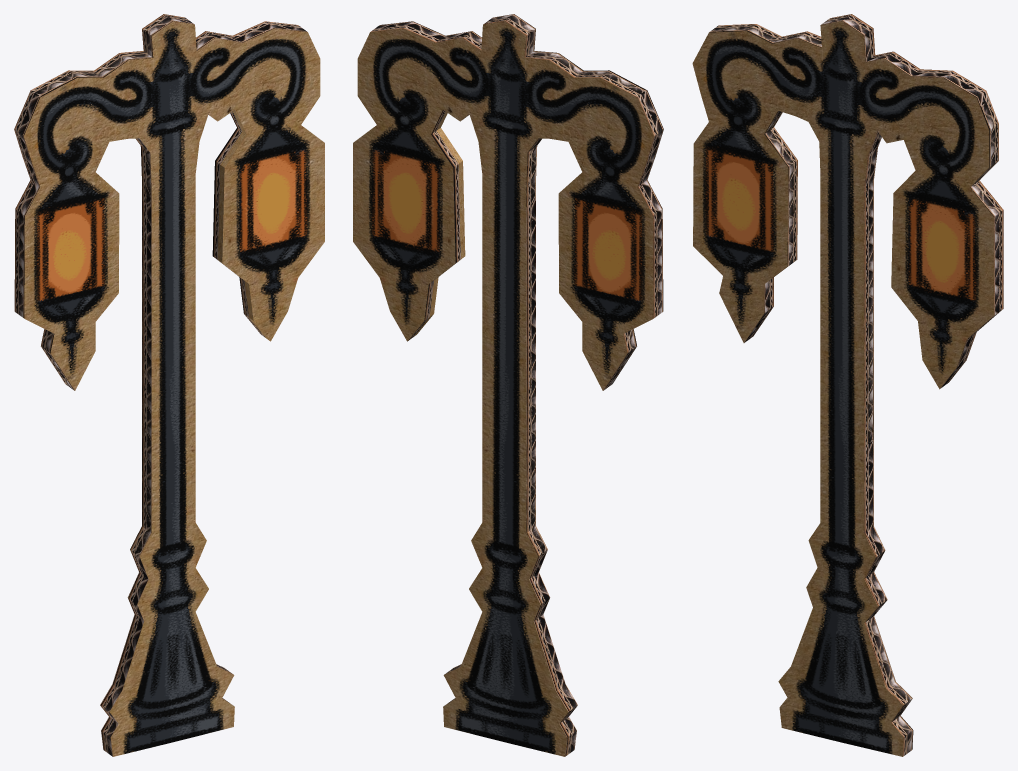
The model's file is Lamp.fbx.
3 views of the same model, side by side, from view 1: azimuth 30°, elevation 25°; view 2: azimuth 150°, elevation 25°; view 3: azimuth 330°, elevation 25° (orthographic).
Parts seen in each view (by area): view 1: Lamp; view 2: Lamp; view 3: Lamp.
Boxes of the visible parts, <box> form: Lamp: <box>14,14,324,756</box>; Lamp: <box>353,14,663,756</box>; Lamp: <box>692,14,1003,756</box>.
Size of the model in its own units: 171 by 391 by 9.5.
